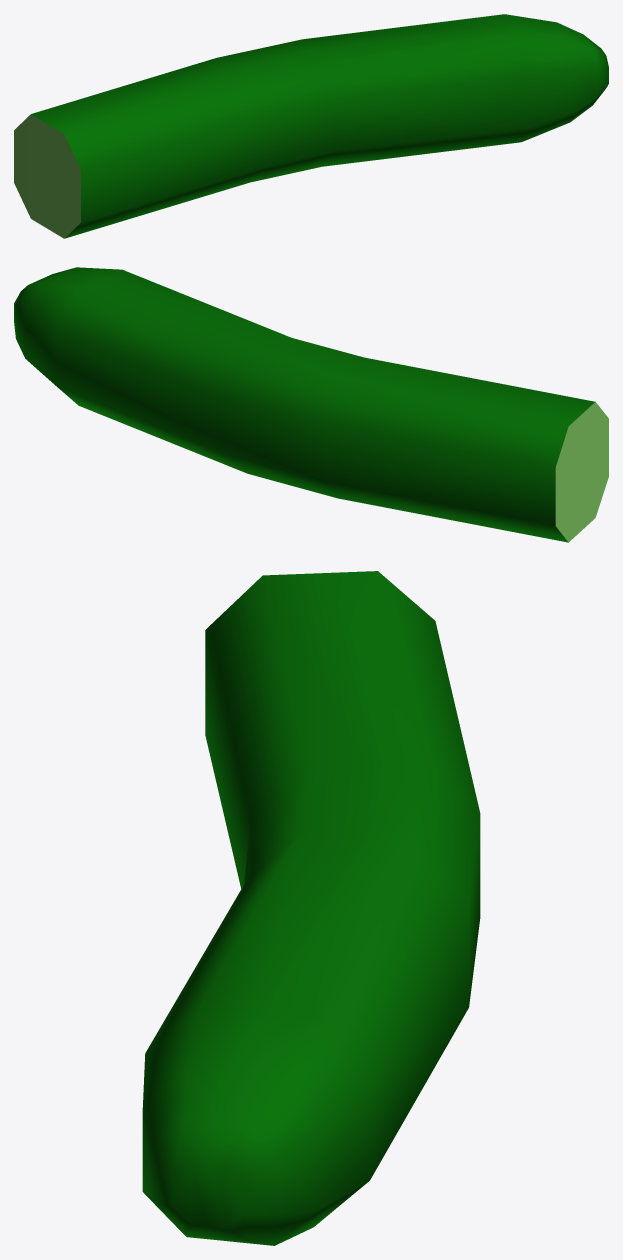
The model's file is mesh_Cucumber_Stage03.fbx.
3 renders of one model, top to bottom at view 1: azimuth 30°, elevation 25°; view 2: azimuth 150°, elevation 25°; view 3: azimuth 270°, elevation 25°, orthographic. The views are drawn at different scales.
Visible parts, largest first — view 1: mesh_Cucumber_Stage03; view 2: mesh_Cucumber_Stage03; view 3: mesh_Cucumber_Stage03.
Boxes of the visible parts, x1,y1,x2,y2 form: mesh_Cucumber_Stage03: (14,14,608,238); mesh_Cucumber_Stage03: (14,267,608,542); mesh_Cucumber_Stage03: (142,571,480,1245).
Bounding box in the file's own units: 0.1964 × 0.0367 × 0.0535.
